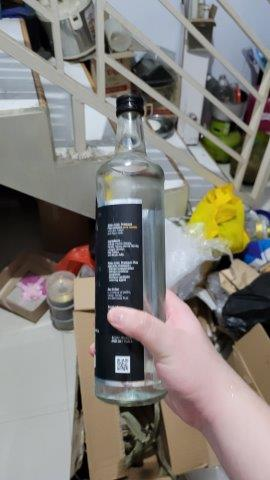botolkaca: (95, 94, 166, 405)
